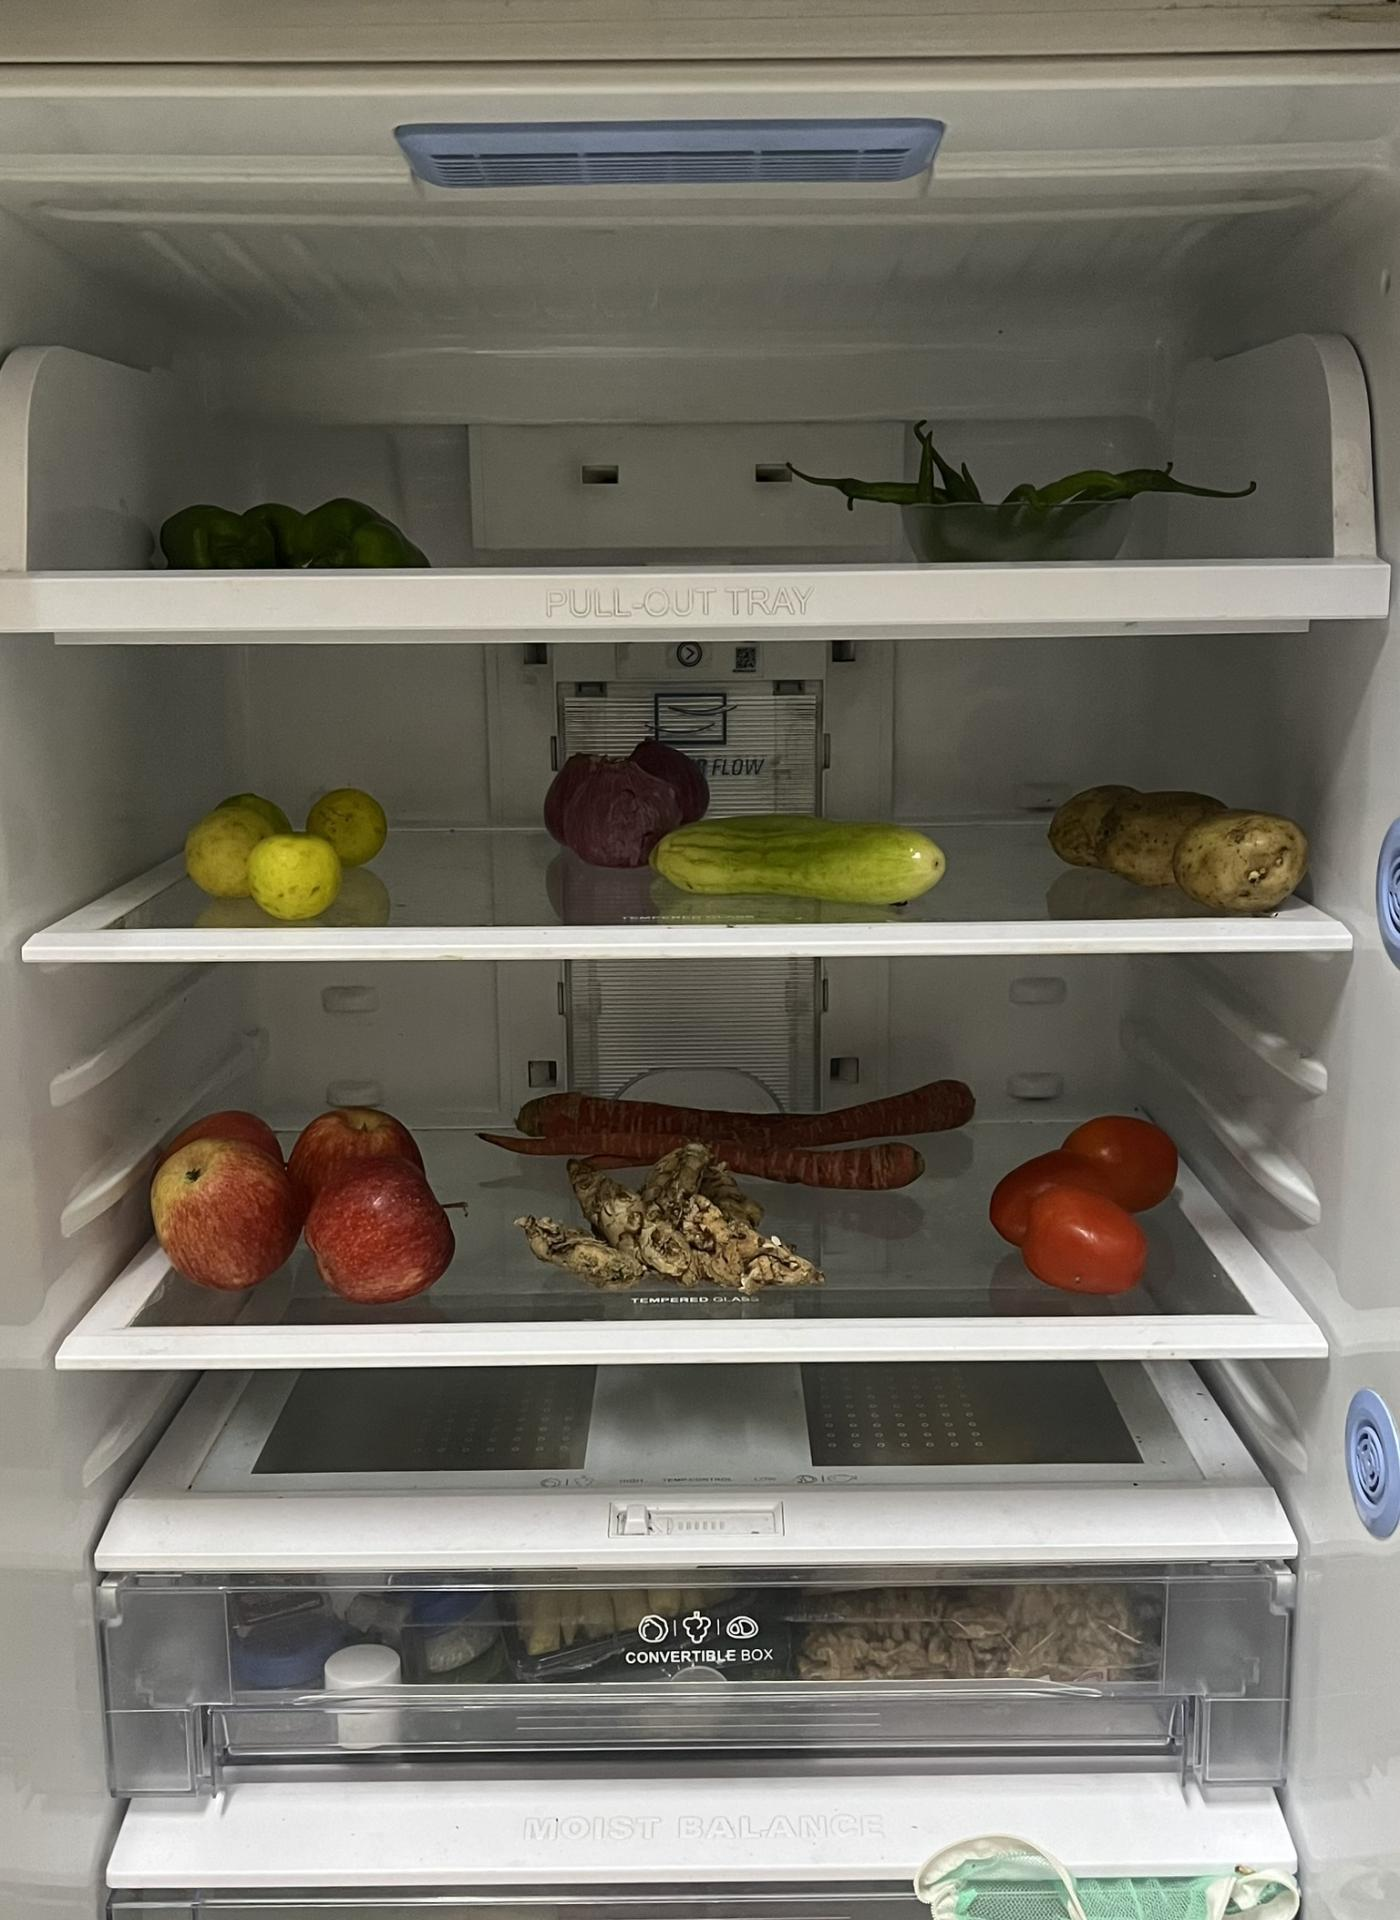apple: (154, 1091, 446, 1291)
capsicum: (151, 490, 429, 565)
carrots: (499, 1090, 987, 1203)
chillies: (789, 410, 1258, 565)
cucumber: (653, 806, 950, 902)
ginger: (516, 1151, 807, 1294)
lemon: (183, 777, 397, 915)
onion: (546, 744, 711, 874)
potato: (1042, 784, 1312, 906)
tomato: (987, 1103, 1178, 1285)
